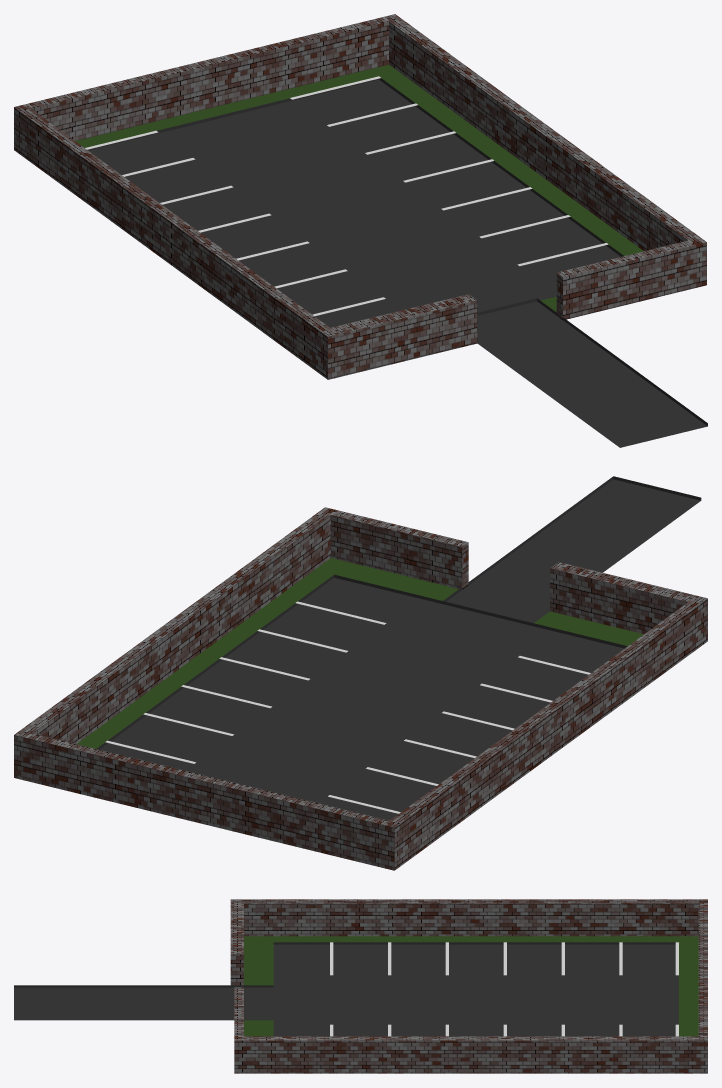
Rendered from ParkingArea.glb.
The picture shows the model from 3 angles, top to bottom: view 1: azimuth 30°, elevation 25°; view 2: azimuth 150°, elevation 25°; view 3: azimuth 270°, elevation 25°; orthographic projection. The views are drawn at different scales.
Parts seen in each view (by area): view 1: Plane; view 2: Plane; view 3: Plane.
Boxes of the visible parts, x1,y1,x2,y2 form: Plane: (14,14,707,447); Plane: (14,476,707,870); Plane: (14,899,707,1073).
Size of the model in its own units: 14.33 by 1.55 by 29.74.
Materials: 4 (1 with a texture image).
